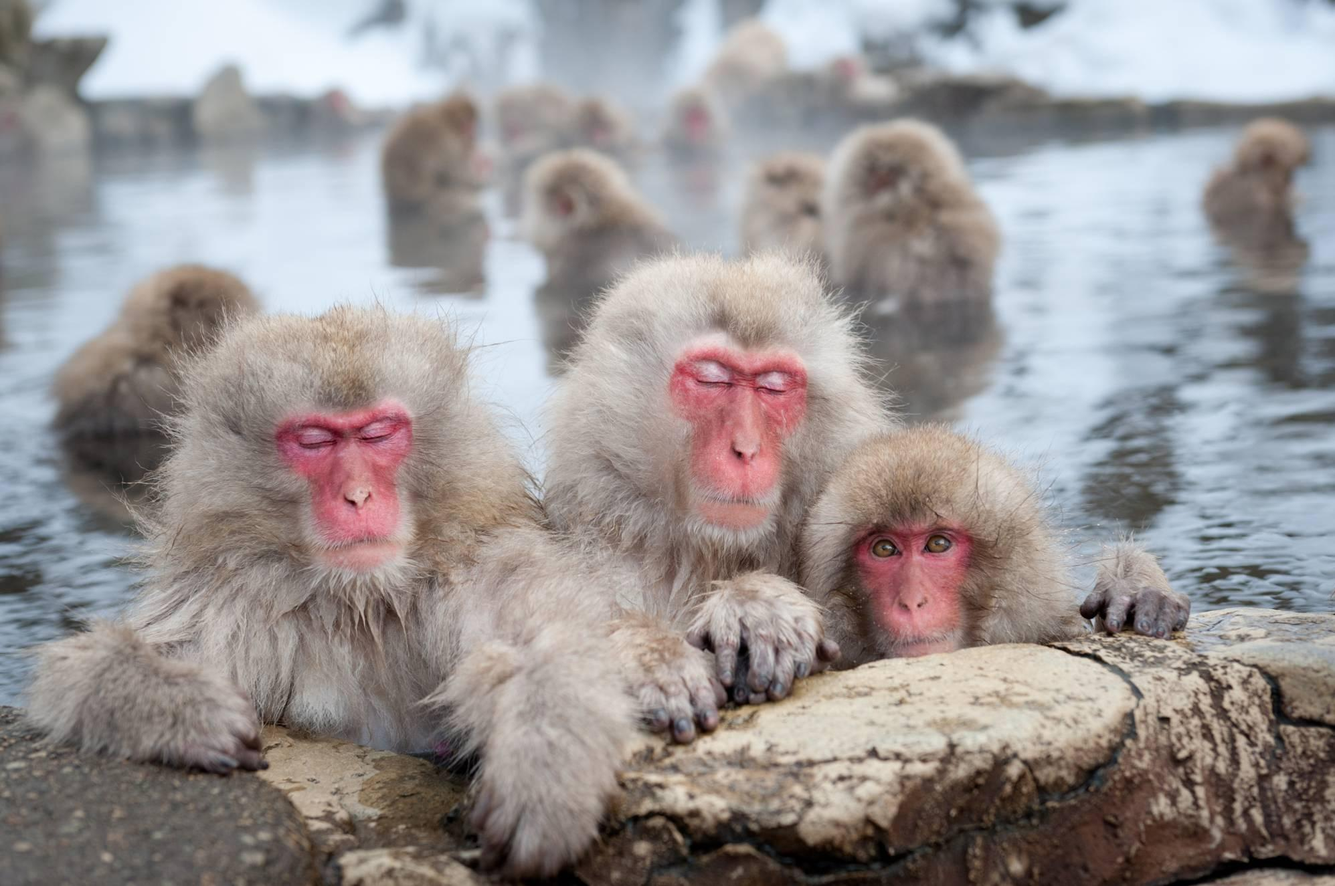monkey: (488, 124, 1028, 867)
